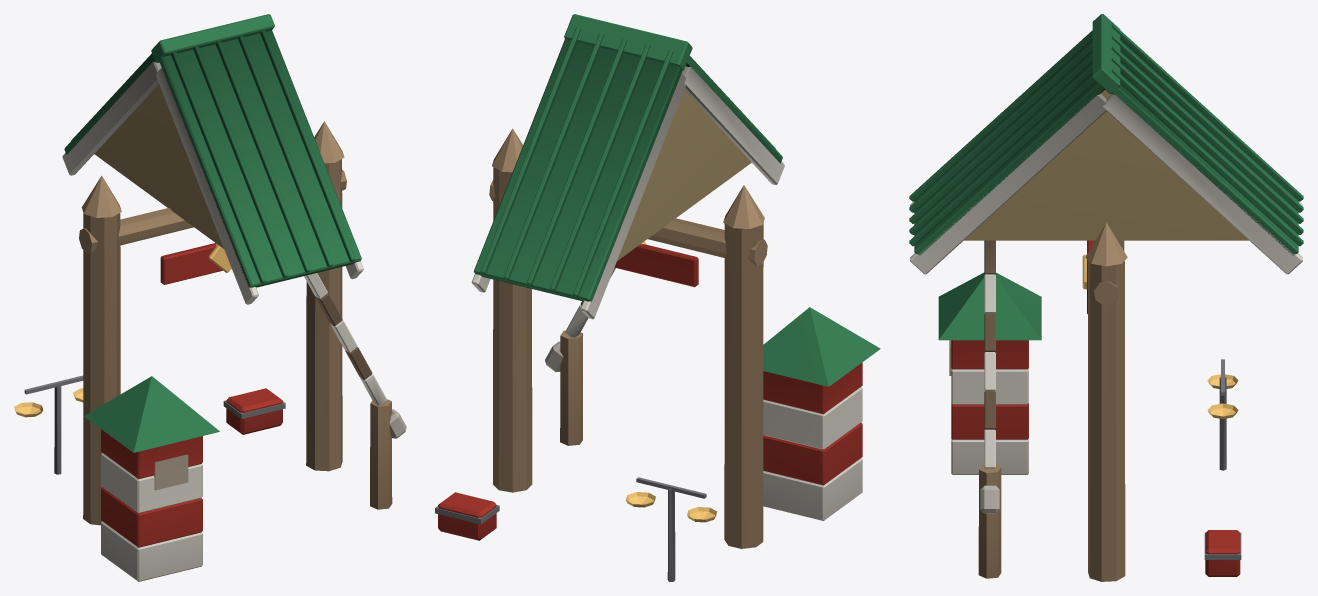
Rendered from bld_tamozhnya_e2.glb.
3 views of the same model, side by side, from view 1: azimuth 30°, elevation 25°; view 2: azimuth 150°, elevation 25°; view 3: azimuth 270°, elevation 25° (orthographic). The views are drawn at different scales.
Parts seen in each view (by area): view 1: tamozhnya; view 2: tamozhnya; view 3: tamozhnya.
Boxes of the visible parts, x1,y1,x2,y2 form: tamozhnya: [14, 14, 406, 581]; tamozhnya: [435, 14, 880, 581]; tamozhnya: [909, 14, 1303, 581].
Size of the model in its own units: 0.9025 by 1.36 by 1.02.
